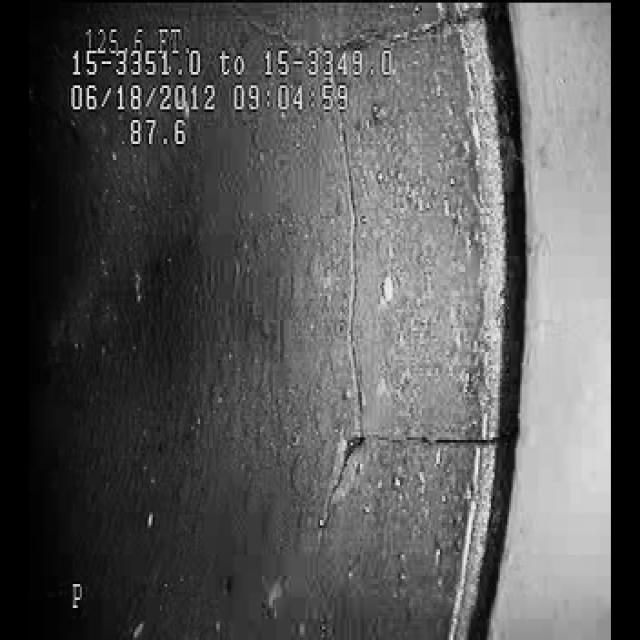Crack: (318, 150, 464, 536)
